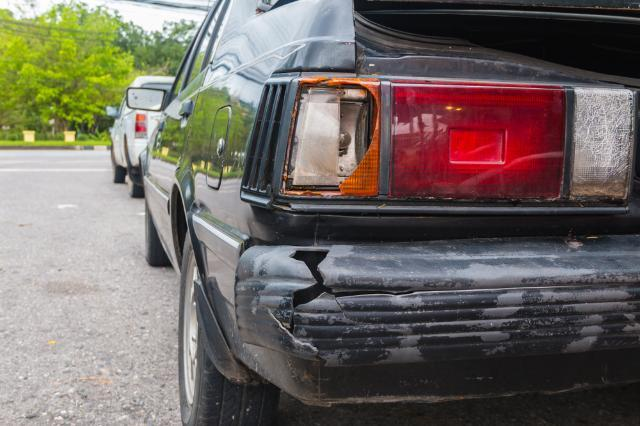crack: (253, 249, 450, 366)
lamp broken: (281, 77, 383, 197)
